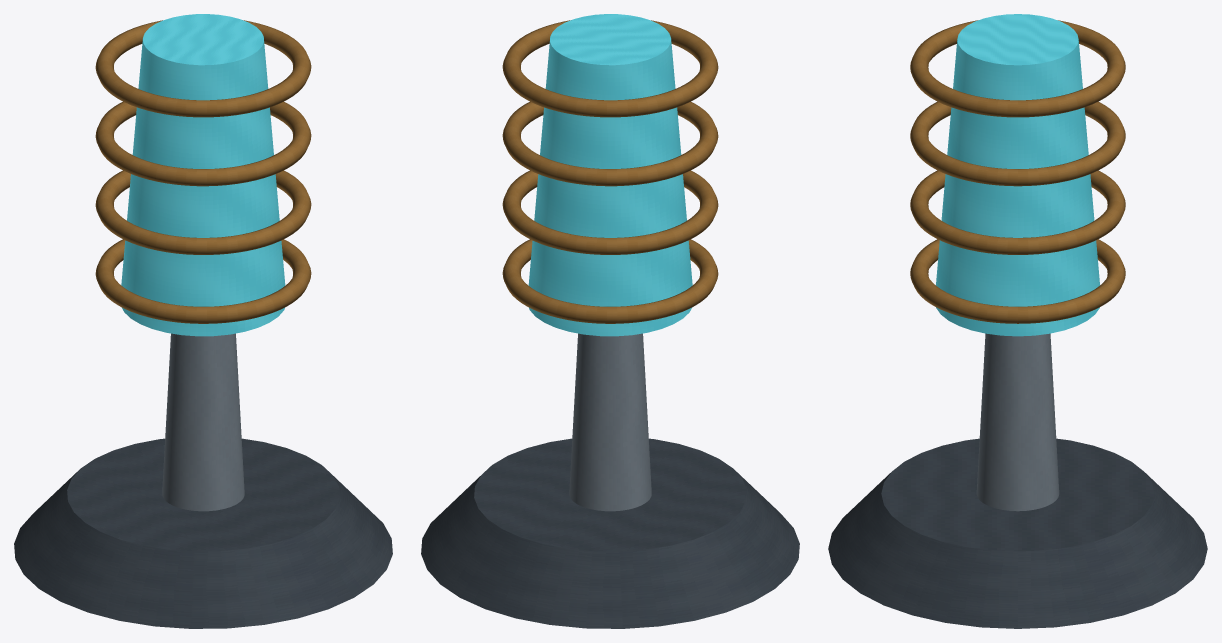
Rendered from pulse-pylon.glb.
The picture shows the model from 3 angles, left to right: view 1: azimuth 30°, elevation 25°; view 2: azimuth 150°, elevation 25°; view 3: azimuth 270°, elevation 25°; orthographic projection.
Visible parts, largest first — view 1: iron.0, crystal.2, steel.1, brass.6, brass.5, brass.4, brass.3; view 2: iron.0, crystal.2, steel.1, brass.6, brass.5, brass.4, brass.3; view 3: iron.0, crystal.2, steel.1, brass.6, brass.5, brass.4, brass.3.
Part boxes in pixels (bbox=[...]): iron.0: bbox=[14, 438, 392, 628]; crystal.2: bbox=[121, 14, 285, 336]; steel.1: bbox=[162, 333, 244, 511]; brass.6: bbox=[95, 20, 311, 117]; brass.5: bbox=[95, 101, 311, 186]; brass.4: bbox=[95, 170, 311, 254]; brass.3: bbox=[95, 239, 311, 323]; iron.0: bbox=[421, 438, 799, 628]; crystal.2: bbox=[528, 14, 692, 336]; steel.1: bbox=[569, 333, 651, 511]; brass.6: bbox=[502, 20, 718, 117]; brass.5: bbox=[502, 101, 718, 186]; brass.4: bbox=[502, 170, 718, 254]; brass.3: bbox=[502, 239, 718, 323]; iron.0: bbox=[828, 438, 1207, 628]; crystal.2: bbox=[936, 14, 1099, 336]; steel.1: bbox=[976, 333, 1059, 511]; brass.6: bbox=[910, 20, 1125, 117]; brass.5: bbox=[910, 101, 1125, 186]; brass.4: bbox=[910, 170, 1125, 254]; brass.3: bbox=[910, 239, 1125, 323].
Bounding box in the file's own units: 0.5 × 0.74 × 0.5.
Materials: 4 (4 with a texture image).
